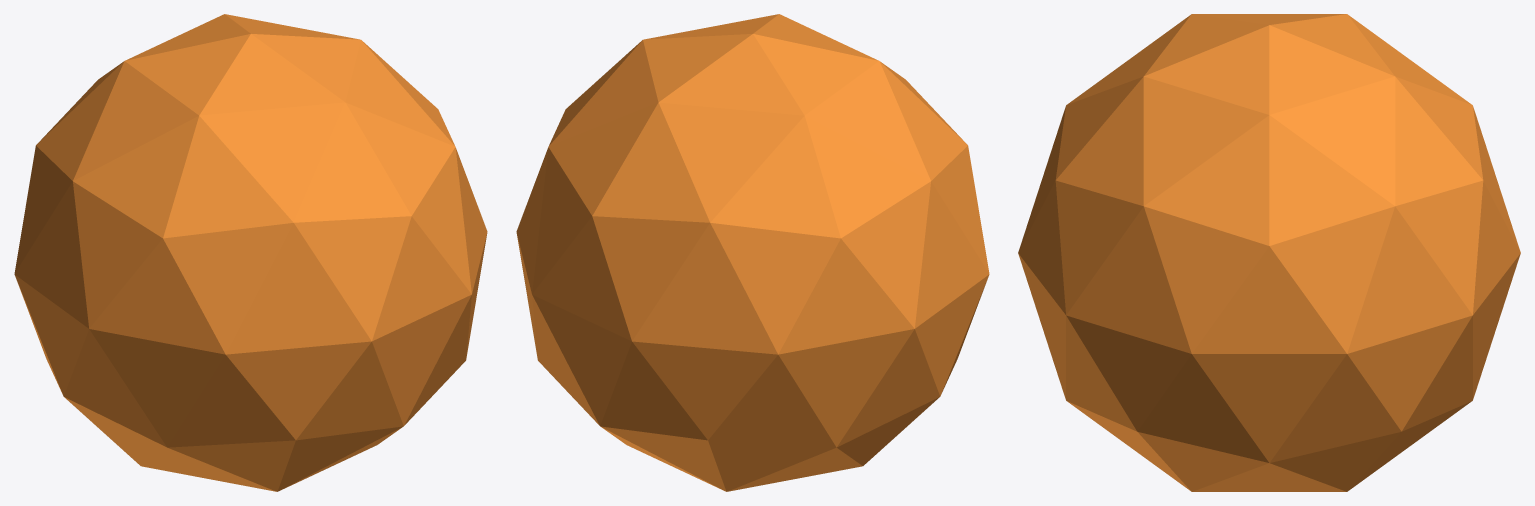
Rendered from Mars.fbx.
3 renders of one model, left to right at view 1: azimuth 30°, elevation 25°; view 2: azimuth 150°, elevation 25°; view 3: azimuth 270°, elevation 25°, orthographic. The views are drawn at different scales.
Visible parts, largest first — view 1: Icosphere; view 2: Icosphere; view 3: Icosphere.
Boxes of the visible parts, left/top/right/bottom form: Icosphere: left=14, top=14, right=487, bottom=491; Icosphere: left=516, top=14, right=989, bottom=491; Icosphere: left=1018, top=14, right=1520, bottom=491.
Size of the model in its own units: 259 by 273 by 273.
